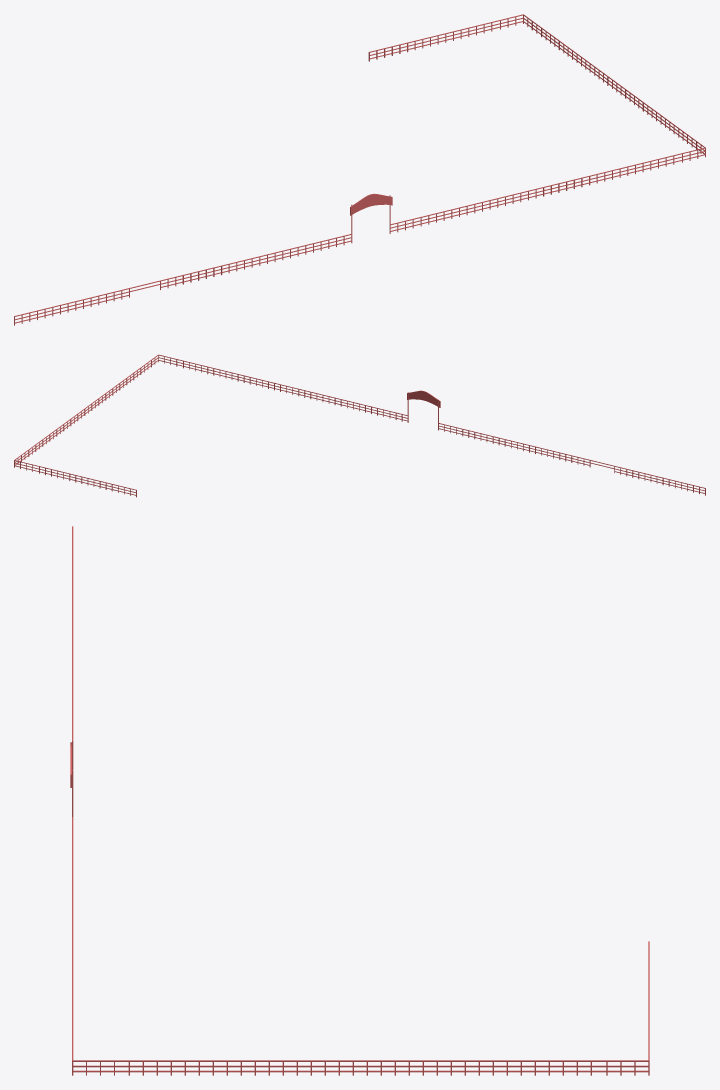
Rendered from Cerca Granja.FBX.
3 renders of one model, top to bottom at view 1: azimuth 30°, elevation 25°; view 2: azimuth 150°, elevation 25°; view 3: azimuth 270°, elevation 25°, orthographic. The views are drawn at different scales.
Visible parts, largest first — view 1: Cerca Granja; view 2: Cerca Granja; view 3: Cerca Granja.
Part boxes in pixels (bbox=[...]): Cerca Granja: bbox=[14, 14, 705, 325]; Cerca Granja: bbox=[14, 354, 705, 497]; Cerca Granja: bbox=[70, 526, 649, 1075].
Size of the model in its own units: 2438 by 150 by 1117.
